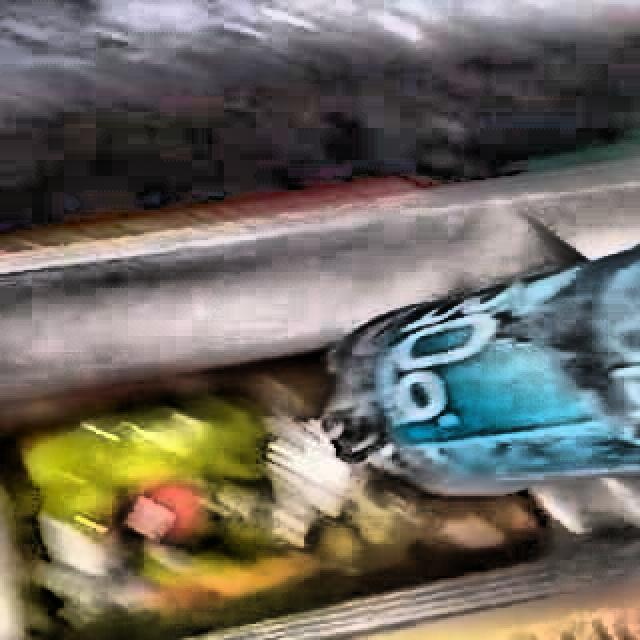plastic: (328, 248, 640, 493)
